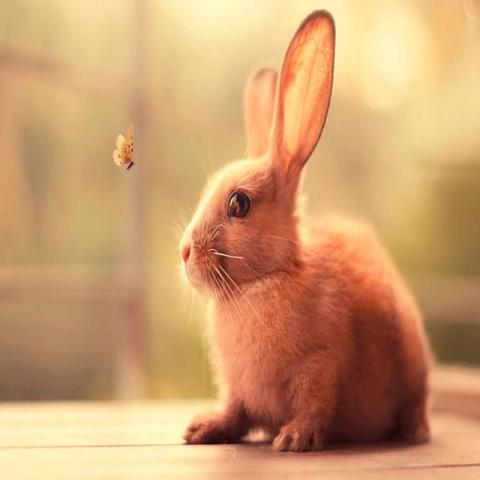small_animal: (175, 8, 435, 453)
